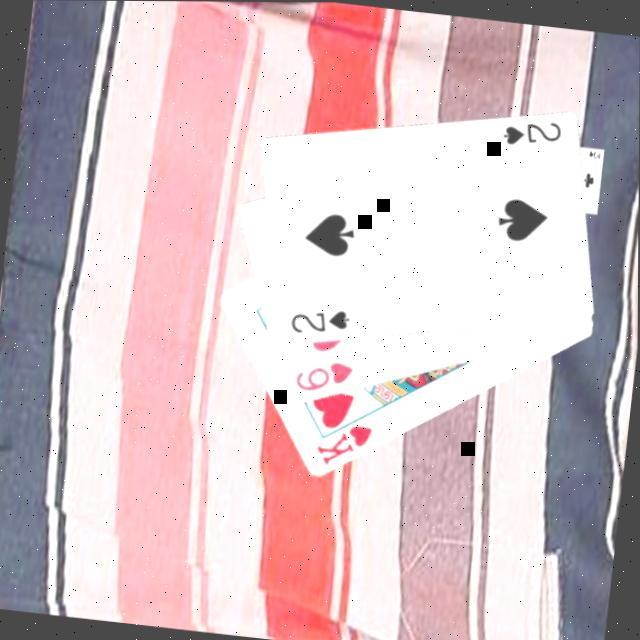2S: (287, 300, 355, 340), (498, 111, 565, 151)
6H: (291, 353, 357, 397)
KH: (312, 416, 377, 472)
